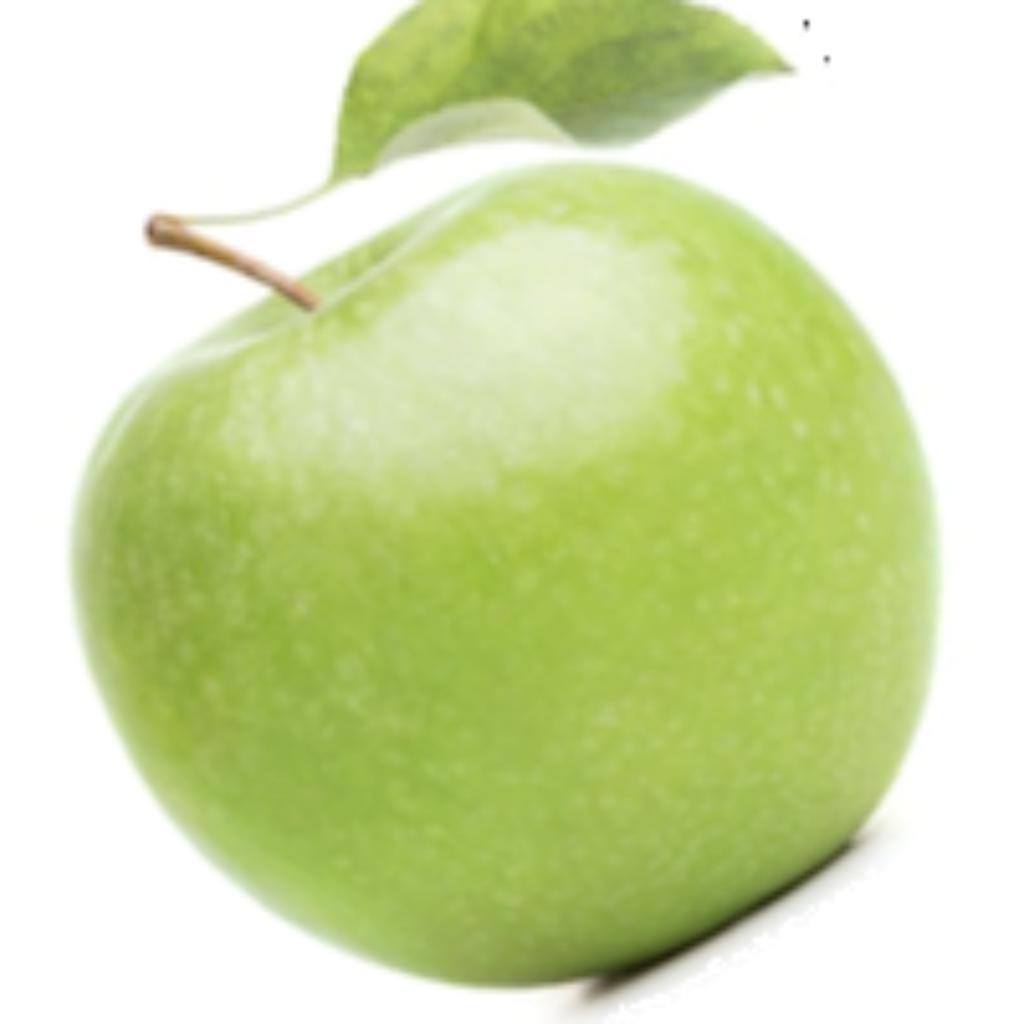apple: (61, 0, 947, 1019)
